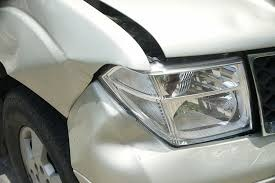Dent: (6, 10, 150, 172)
